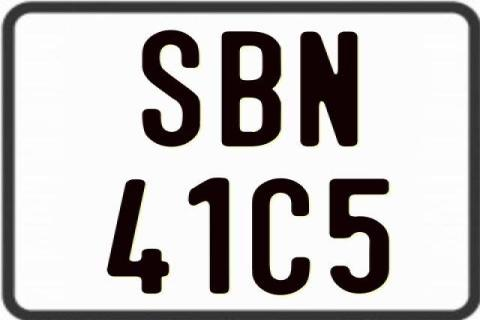0: (106, 179, 173, 293), (327, 177, 387, 293), (188, 176, 230, 294)
B: (221, 31, 281, 149)
C: (252, 178, 316, 298)
N: (300, 30, 362, 146)
S: (141, 28, 203, 146)
